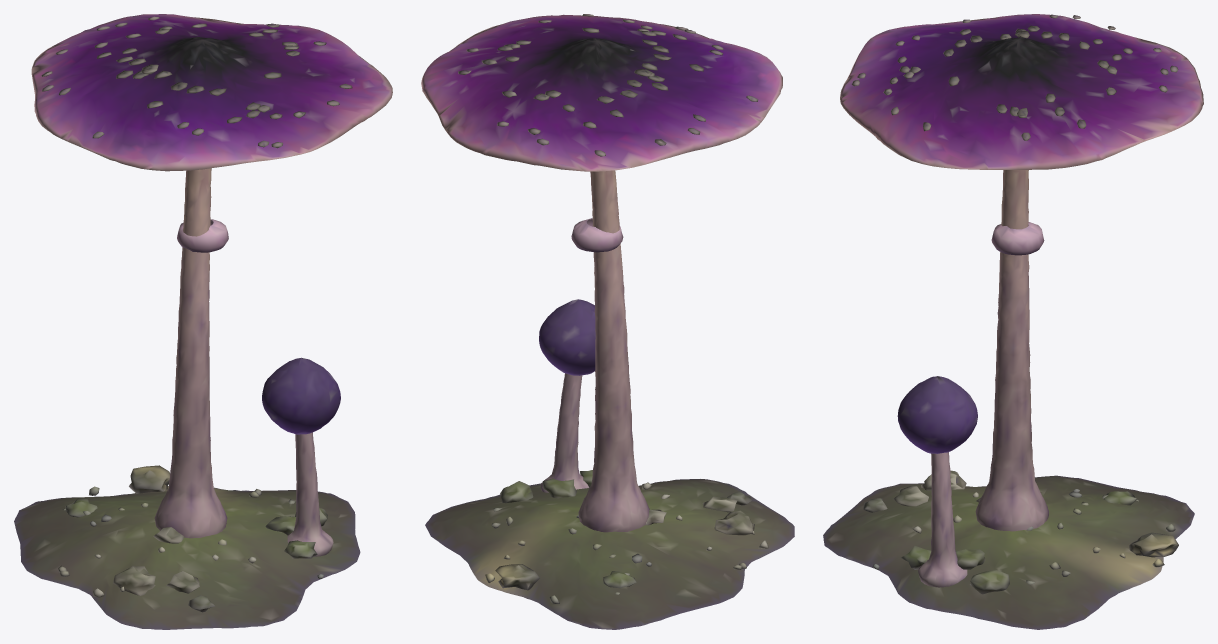
Rendered from mantar_semsiye.glb.
3 views of the same model, side by side, from view 1: azimuth 30°, elevation 25°; view 2: azimuth 150°, elevation 25°; view 3: azimuth 270°, elevation 25° (orthographic).
Parts seen in each view (by area): view 1: mantar_semsiye_LOD0; view 2: mantar_semsiye_LOD0; view 3: mantar_semsiye_LOD0.
Boxes of the visible parts, x1,y1,x2,y2 form: mantar_semsiye_LOD0: (14,14,392,629); mantar_semsiye_LOD0: (421,14,794,629); mantar_semsiye_LOD0: (823,14,1203,629).
Size of what is drawn, in the model's own units: 0.6364 by 0.9882 by 0.6649.
